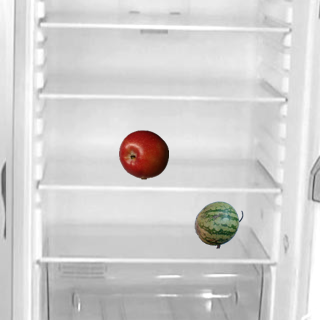Apple Braeburn: (118, 129, 168, 179)
Watermelon: (193, 199, 243, 249)
